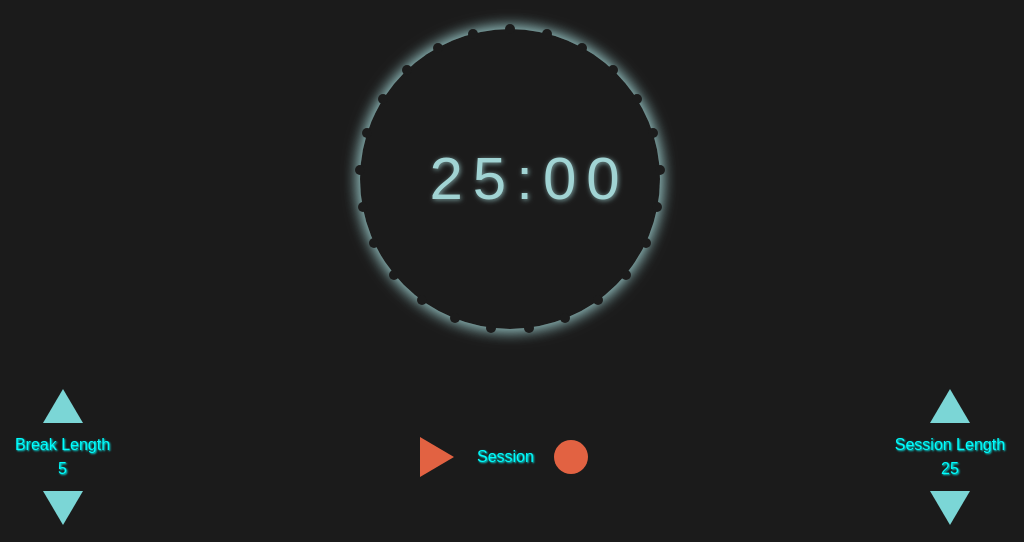
When I click the element with the id of "break-decrement", the value within id="break-length" decrements by a value of 1, and I can see the updated value
Click the element with id "break-decrement" at (62, 508), box [42,491,82,525]
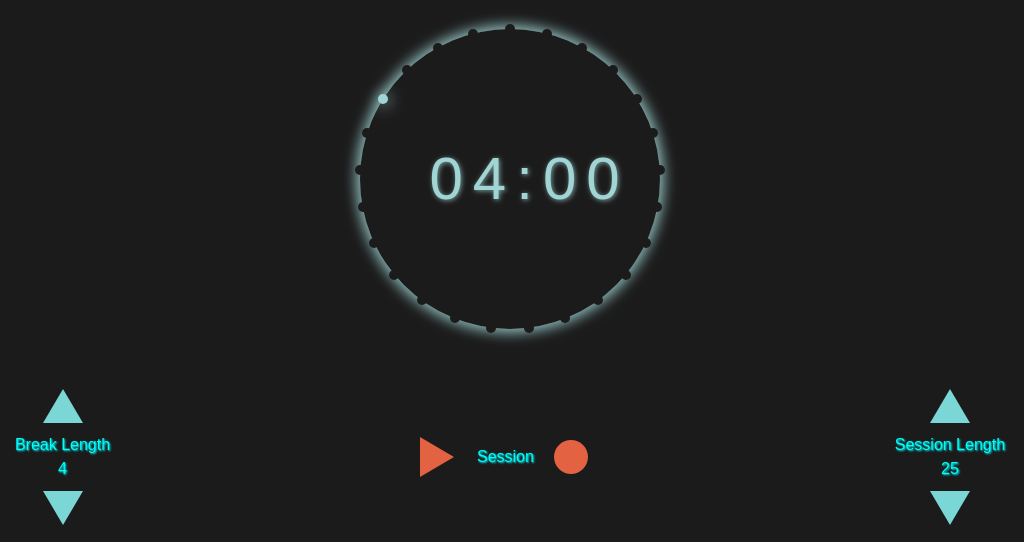
expect the text with id "break-length" reads "4": met, box [58,460,67,477]
